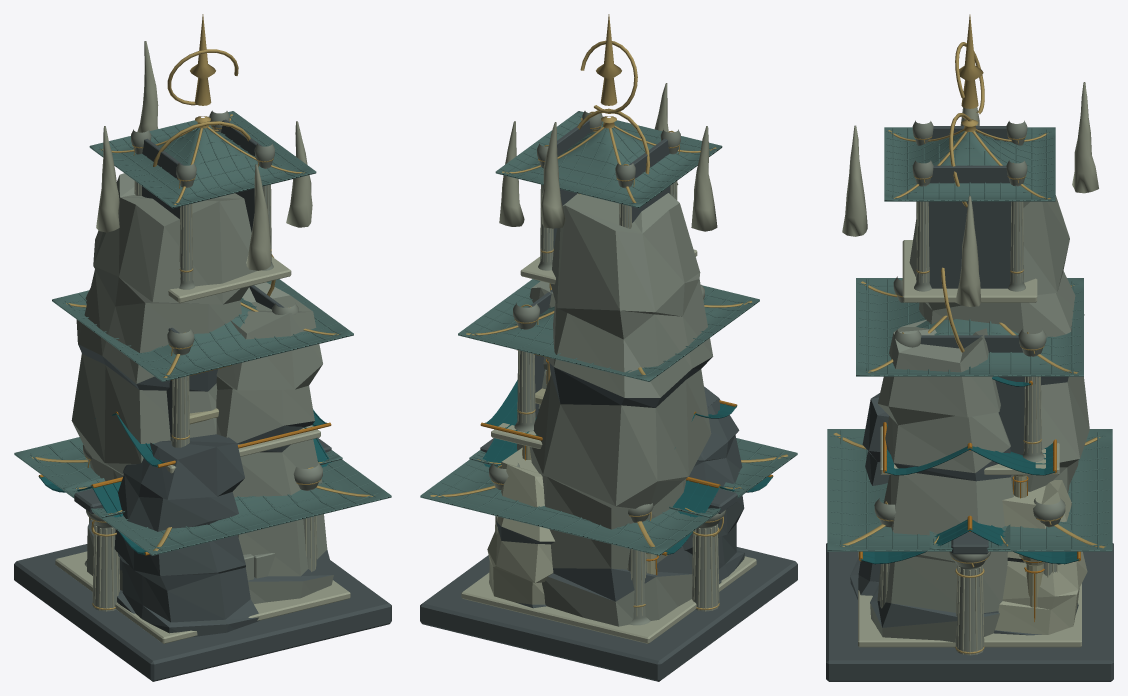
The model's file is celestial_fall.glb.
3 renders of one model, left to right at view 1: azimuth 30°, elevation 25°; view 2: azimuth 150°, elevation 25°; view 3: azimuth 270°, elevation 25°, orthographic. The views are drawn at different scales.
Parts seen in each view (by area): view 1: Rock_stone, Watchtower_roof, Rock_dark, Watchtower_dark, Watchtower_pale, Watchtower_stone, Watchtower_metal, Landmark, Gate_stone, Gate_pale, Gate_roof; view 2: Rock_stone, Watchtower_roof, Watchtower_dark, Watchtower_pale, Rock_dark, Rock_pale, Watchtower_stone, Watchtower_metal, Landmark, Gate_stone, Gate_pale, Gate_roof; view 3: Rock_stone, Watchtower_roof, Watchtower_dark, Watchtower_pale, Watchtower_stone, Rock_pale, Landmark, Rock_dark, Watchtower_metal, Gate_stone, Gate_pale, Gate_dark (+1 smaller).
Boxes of the visible parts, x1,y1,x2,y2 form: Rock_stone: [71, 173, 333, 603]; Watchtower_roof: [14, 111, 391, 555]; Rock_dark: [78, 344, 333, 636]; Watchtower_dark: [14, 119, 391, 681]; Watchtower_pale: [55, 41, 350, 643]; Watchtower_stone: [83, 110, 322, 591]; Watchtower_metal: [32, 14, 374, 550]; Landmark: [38, 365, 331, 555]; Gate_stone: [86, 510, 119, 611]; Gate_pale: [92, 524, 119, 611]; Gate_roof: [63, 450, 342, 517]; Rock_stone: [517, 193, 713, 626]; Watchtower_roof: [420, 111, 797, 555]; Watchtower_dark: [420, 120, 797, 681]; Watchtower_pale: [461, 83, 756, 643]; Rock_dark: [496, 357, 744, 608]; Rock_pale: [487, 447, 554, 604]; Watchtower_stone: [489, 111, 704, 625]; Watchtower_metal: [430, 14, 787, 607]; Landmark: [480, 350, 773, 575]; Gate_stone: [692, 510, 725, 611]; Gate_pale: [692, 524, 719, 611]; Gate_roof: [469, 450, 748, 517]; Rock_stone: [870, 195, 1089, 647]; Watchtower_roof: [827, 127, 1112, 551]; Watchtower_dark: [826, 126, 1113, 681]; Watchtower_pale: [842, 82, 1098, 647]; Watchtower_stone: [874, 120, 1065, 628]; Rock_pale: [995, 480, 1087, 634]; Landmark: [859, 376, 1080, 621]; Rock_dark: [850, 376, 1078, 635]; Watchtower_metal: [833, 14, 1105, 548]; Gate_stone: [949, 551, 990, 655]; Gate_pale: [955, 565, 984, 655]; Gate_dark: [951, 531, 988, 554].
Bounding box in the file's own units: 12 × 28.6 × 12.
